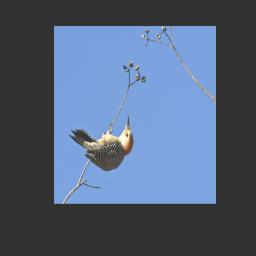Woodpecker: (66, 112, 139, 173)
